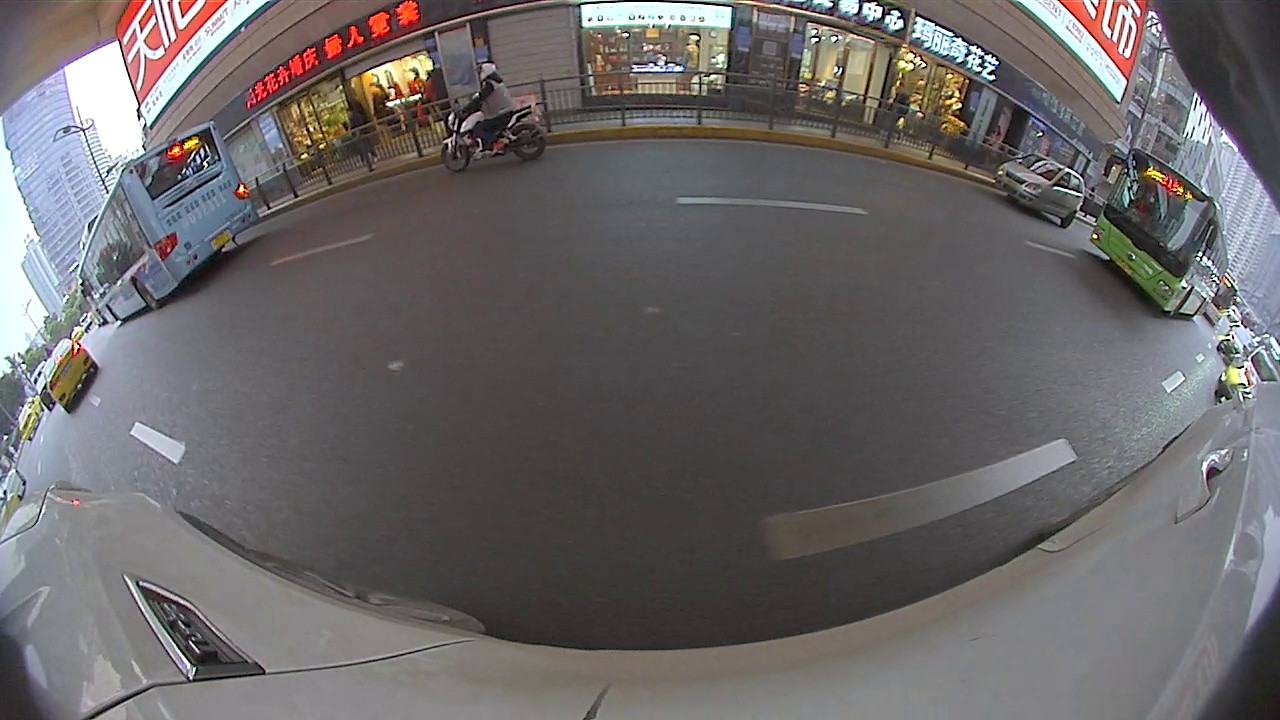bus: (78, 118, 264, 329), (1092, 147, 1229, 320)
car: (997, 149, 1083, 233), (34, 337, 100, 414)
front: (439, 138, 471, 173)
rear: (506, 128, 547, 160)
rider: (437, 62, 550, 179)
